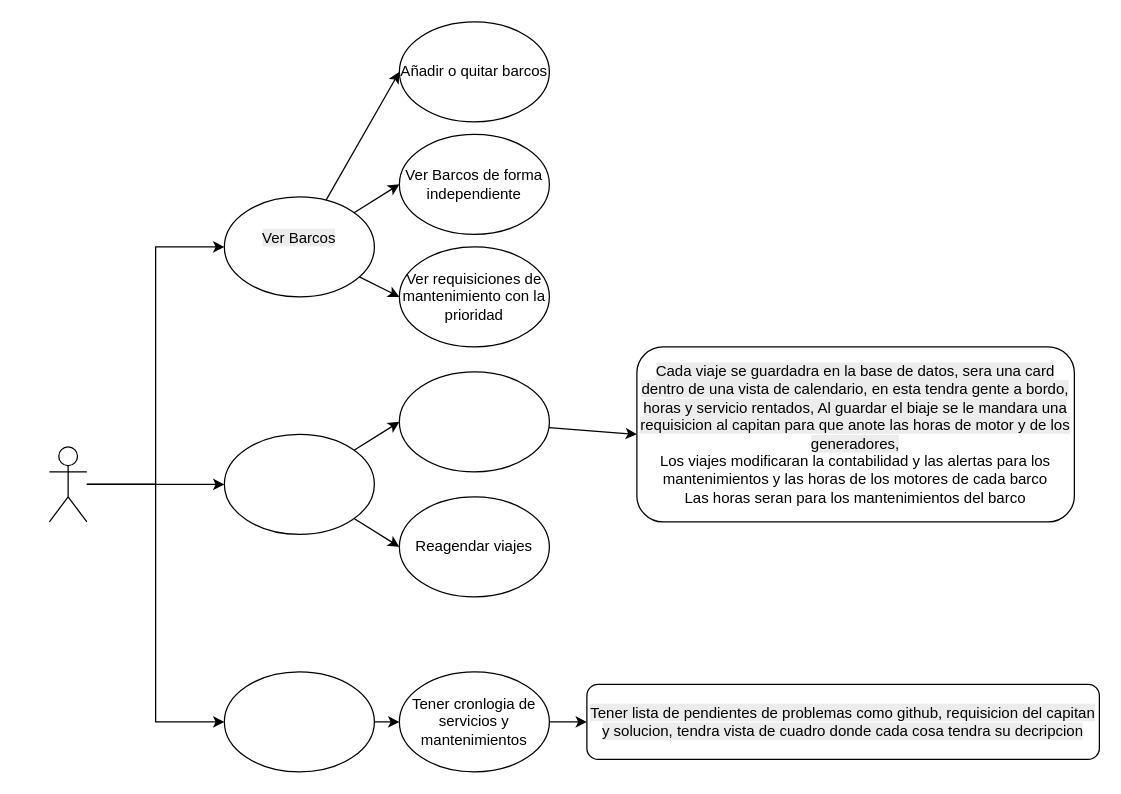
Some shapes in this 1121 by 794 pixel diagram are drawn without their labels. The box of each missing label's shape, as (x1, y1, x2, y2) in pixels:
Administracion de rentas del Barco: (223, 433, 374, 534)
Administrador: (48, 446, 87, 522)
Administrar historial de mantenimientos: (223, 671, 374, 772)
Añadir viajes: (398, 371, 549, 472)
